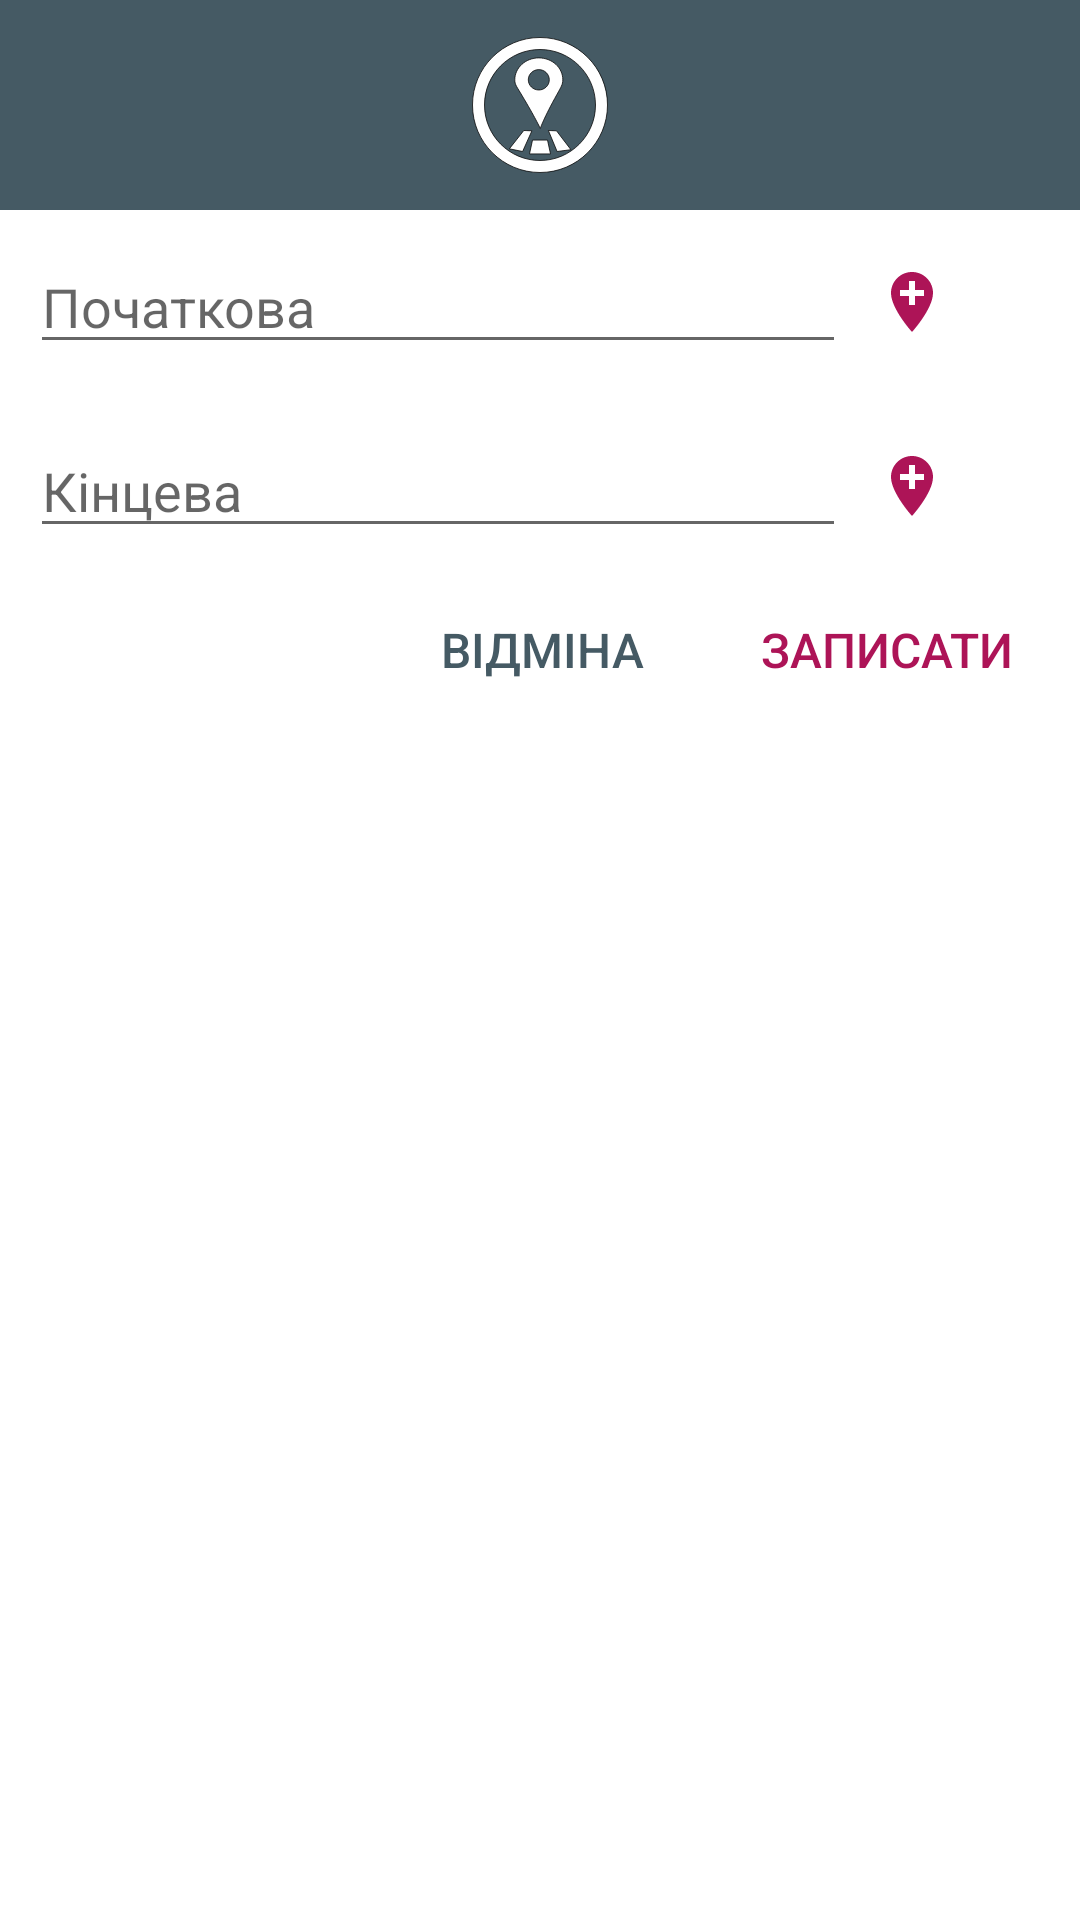

Where icons sit on this 1080 × 1920 app screen, as (x1, y1, x2, y2):
add location: (891, 272, 933, 332), (891, 456, 933, 516)
